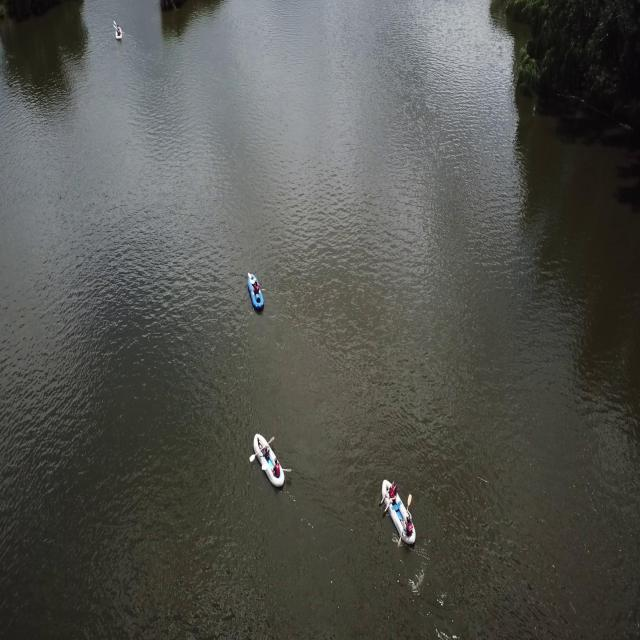kayak: (378, 479, 422, 552), (248, 431, 290, 497), (246, 271, 266, 318), (112, 23, 126, 46)
